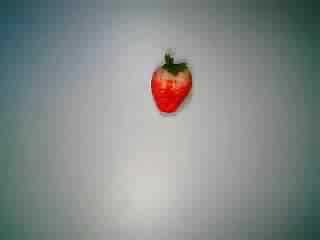strawberry: (135, 53, 203, 117)
